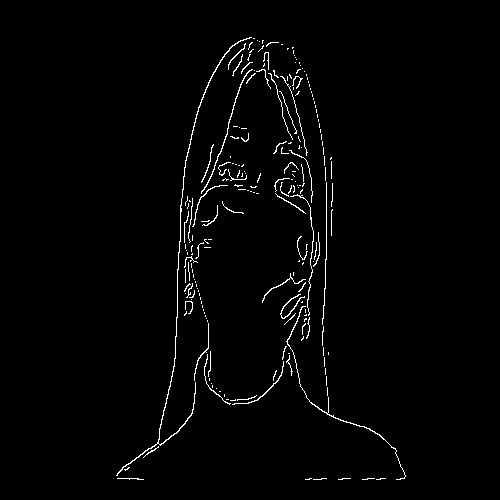mask: (191, 192, 312, 312)
